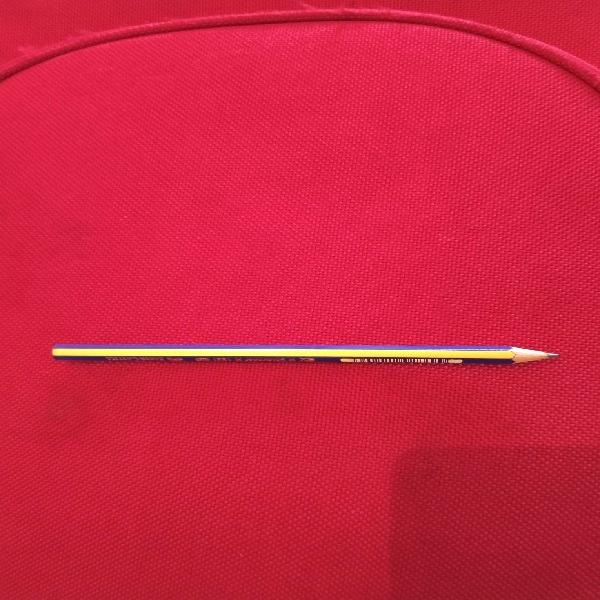pencil: (46, 338, 562, 370)
